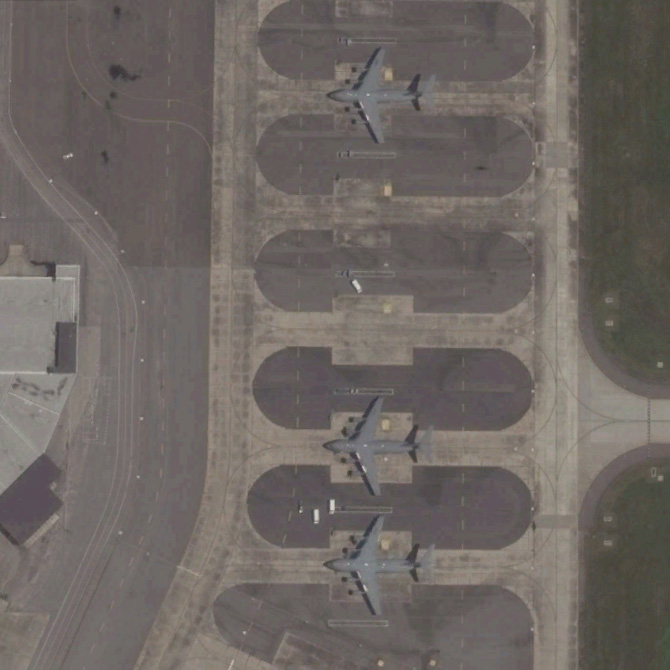A3: (321, 396, 423, 497), (322, 514, 424, 614), (324, 45, 423, 144)
